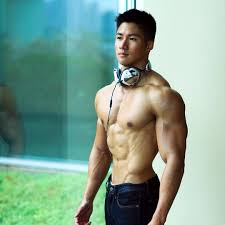asian_male: (103, 11, 147, 80)
